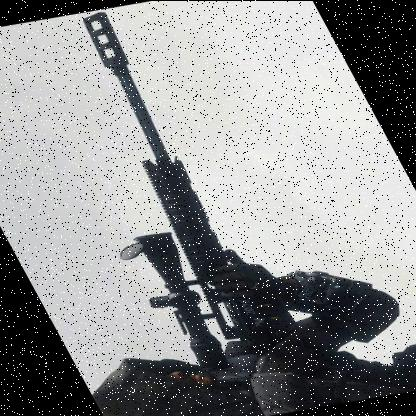rifle: (0, 6, 328, 382)
